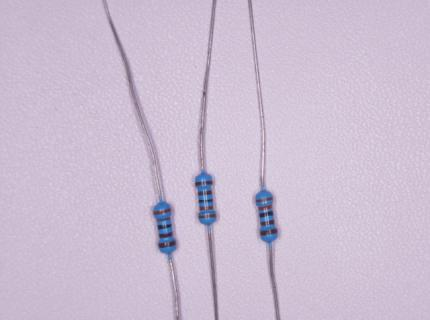Black band: (260, 211, 274, 218), (158, 224, 173, 230), (199, 199, 213, 203)
Brown band: (158, 240, 177, 248), (260, 229, 278, 236), (159, 232, 173, 239), (195, 181, 213, 186), (260, 220, 275, 226), (198, 191, 212, 196)
Orange band: (153, 208, 172, 215), (256, 196, 274, 203), (198, 214, 217, 219), (258, 205, 273, 211), (157, 217, 170, 223), (199, 206, 214, 211)
